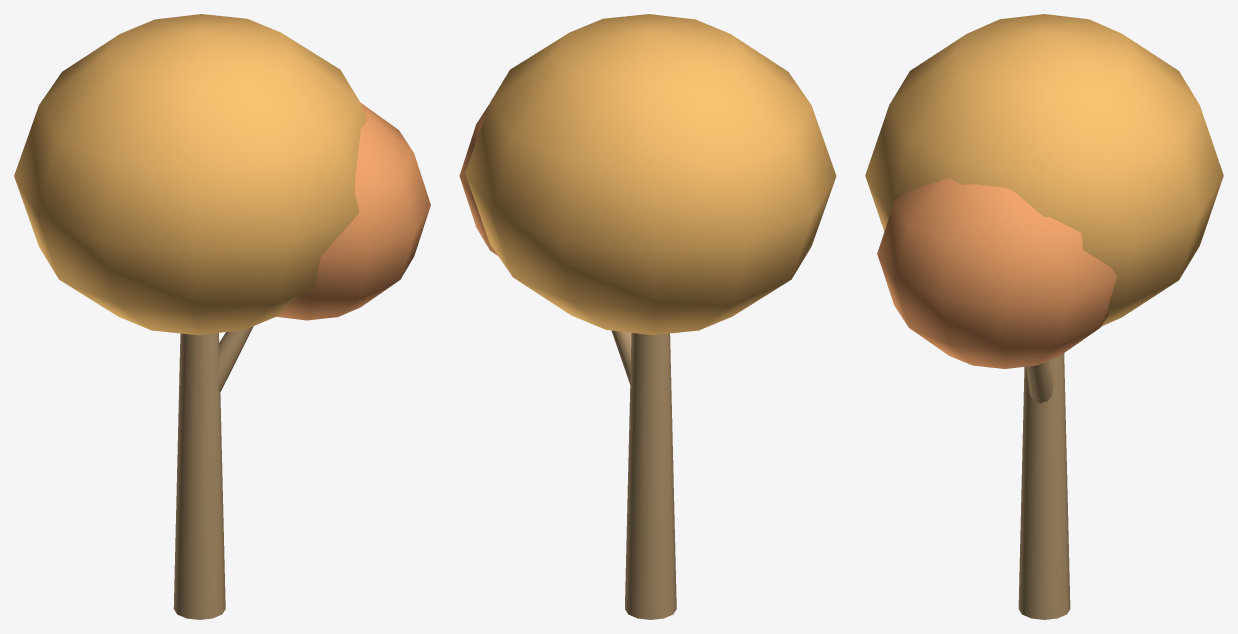
Rendered from tree_sapling_autumn.glb.
3 renders of one model, left to right at view 1: azimuth 30°, elevation 25°; view 2: azimuth 150°, elevation 25°; view 3: azimuth 270°, elevation 25°, orthographic.
Size of the model in its own units: 1.03 by 1.59 by 0.9.
